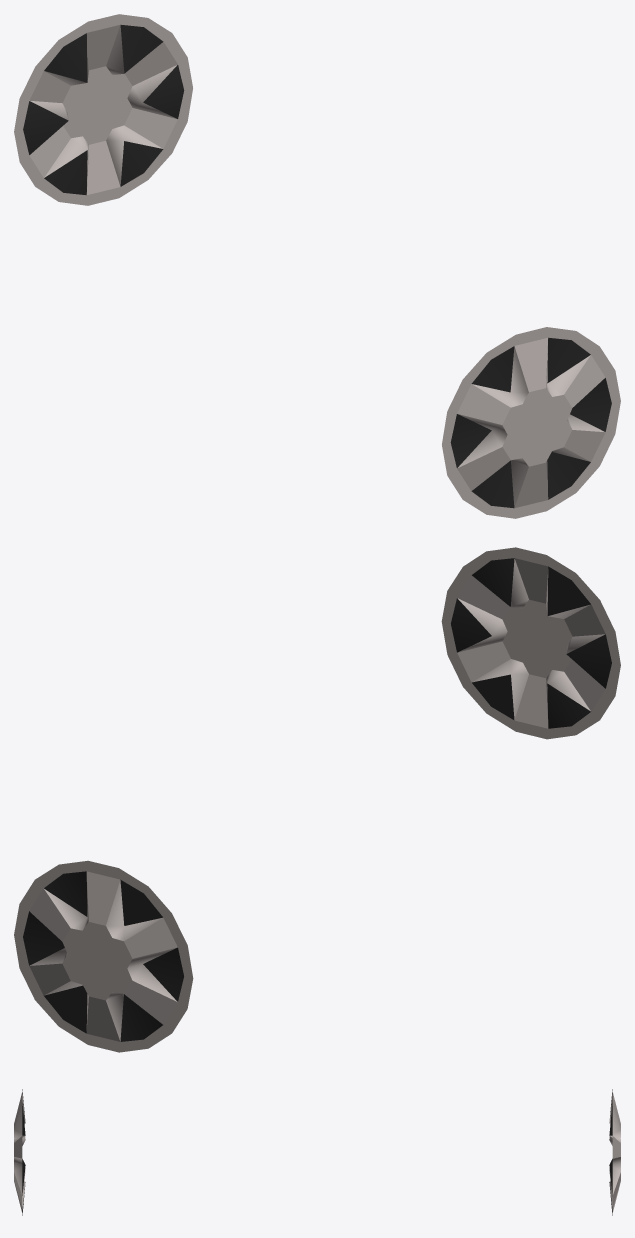
Rendered from hubcap.fbx.
The picture shows the model from 3 angles, top to bottom: view 1: azimuth 30°, elevation 25°; view 2: azimuth 150°, elevation 25°; view 3: azimuth 270°, elevation 25°; orthographic projection. The views are drawn at different scales.
Parts seen in each view (by area): view 1: hubcap1, hubcap; view 2: hubcap1, hubcap; view 3: hubcap1, hubcap.
Boxes of the visible parts, x1,y1,x2,y2 form: hubcap1: [442, 327, 620, 518]; hubcap: [14, 14, 192, 205]; hubcap1: [441, 547, 620, 739]; hubcap: [14, 860, 193, 1052]; hubcap1: [14, 1089, 25, 1215]; hubcap: [609, 1089, 620, 1215].
Size of the model in its own units: 98.71 by 96.9 by 419.
